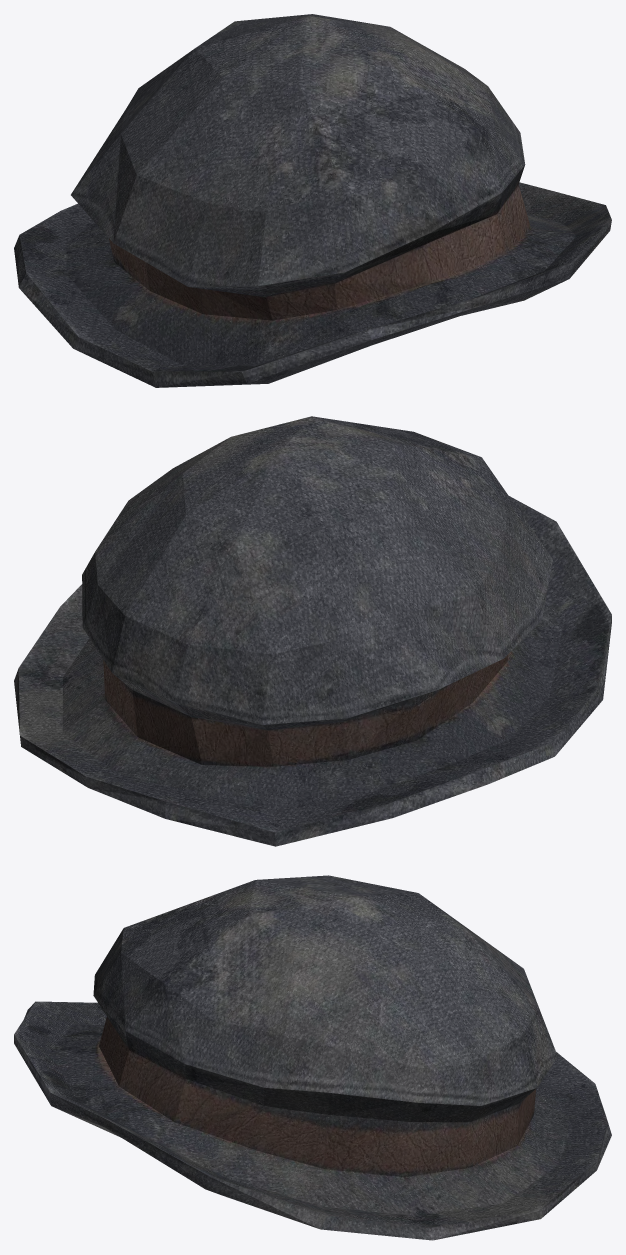
The model's file is KOZA_BIEDACKI_01.glb.
The picture shows the model from 3 angles, top to bottom: view 1: azimuth 30°, elevation 25°; view 2: azimuth 150°, elevation 25°; view 3: azimuth 270°, elevation 25°; orthographic projection. The views are drawn at different scales.
Visible parts, largest first — view 1: KOZA_BIEDACKI_01; view 2: KOZA_BIEDACKI_01; view 3: KOZA_BIEDACKI_01.
Part boxes in pixels (x1,y1,x2,y2): KOZA_BIEDACKI_01: (14,14,611,387); KOZA_BIEDACKI_01: (14,416,611,846); KOZA_BIEDACKI_01: (14,875,611,1240).
Bounding box in the file's own units: 0.3371 × 0.1776 × 0.3712.
Materials: 1 (1 with a texture image).
